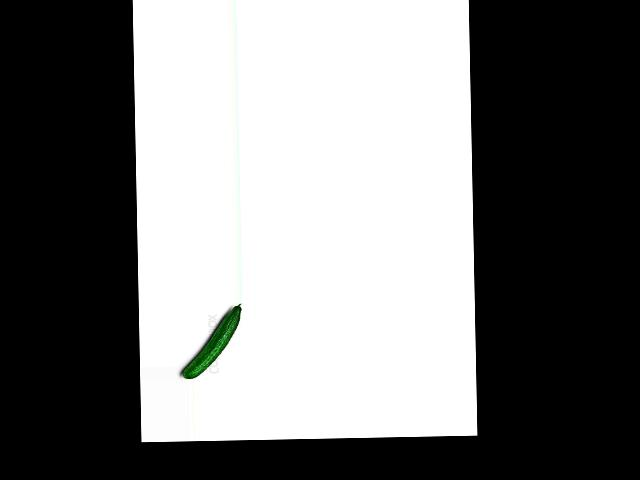cucumber: (180, 302, 242, 378)
